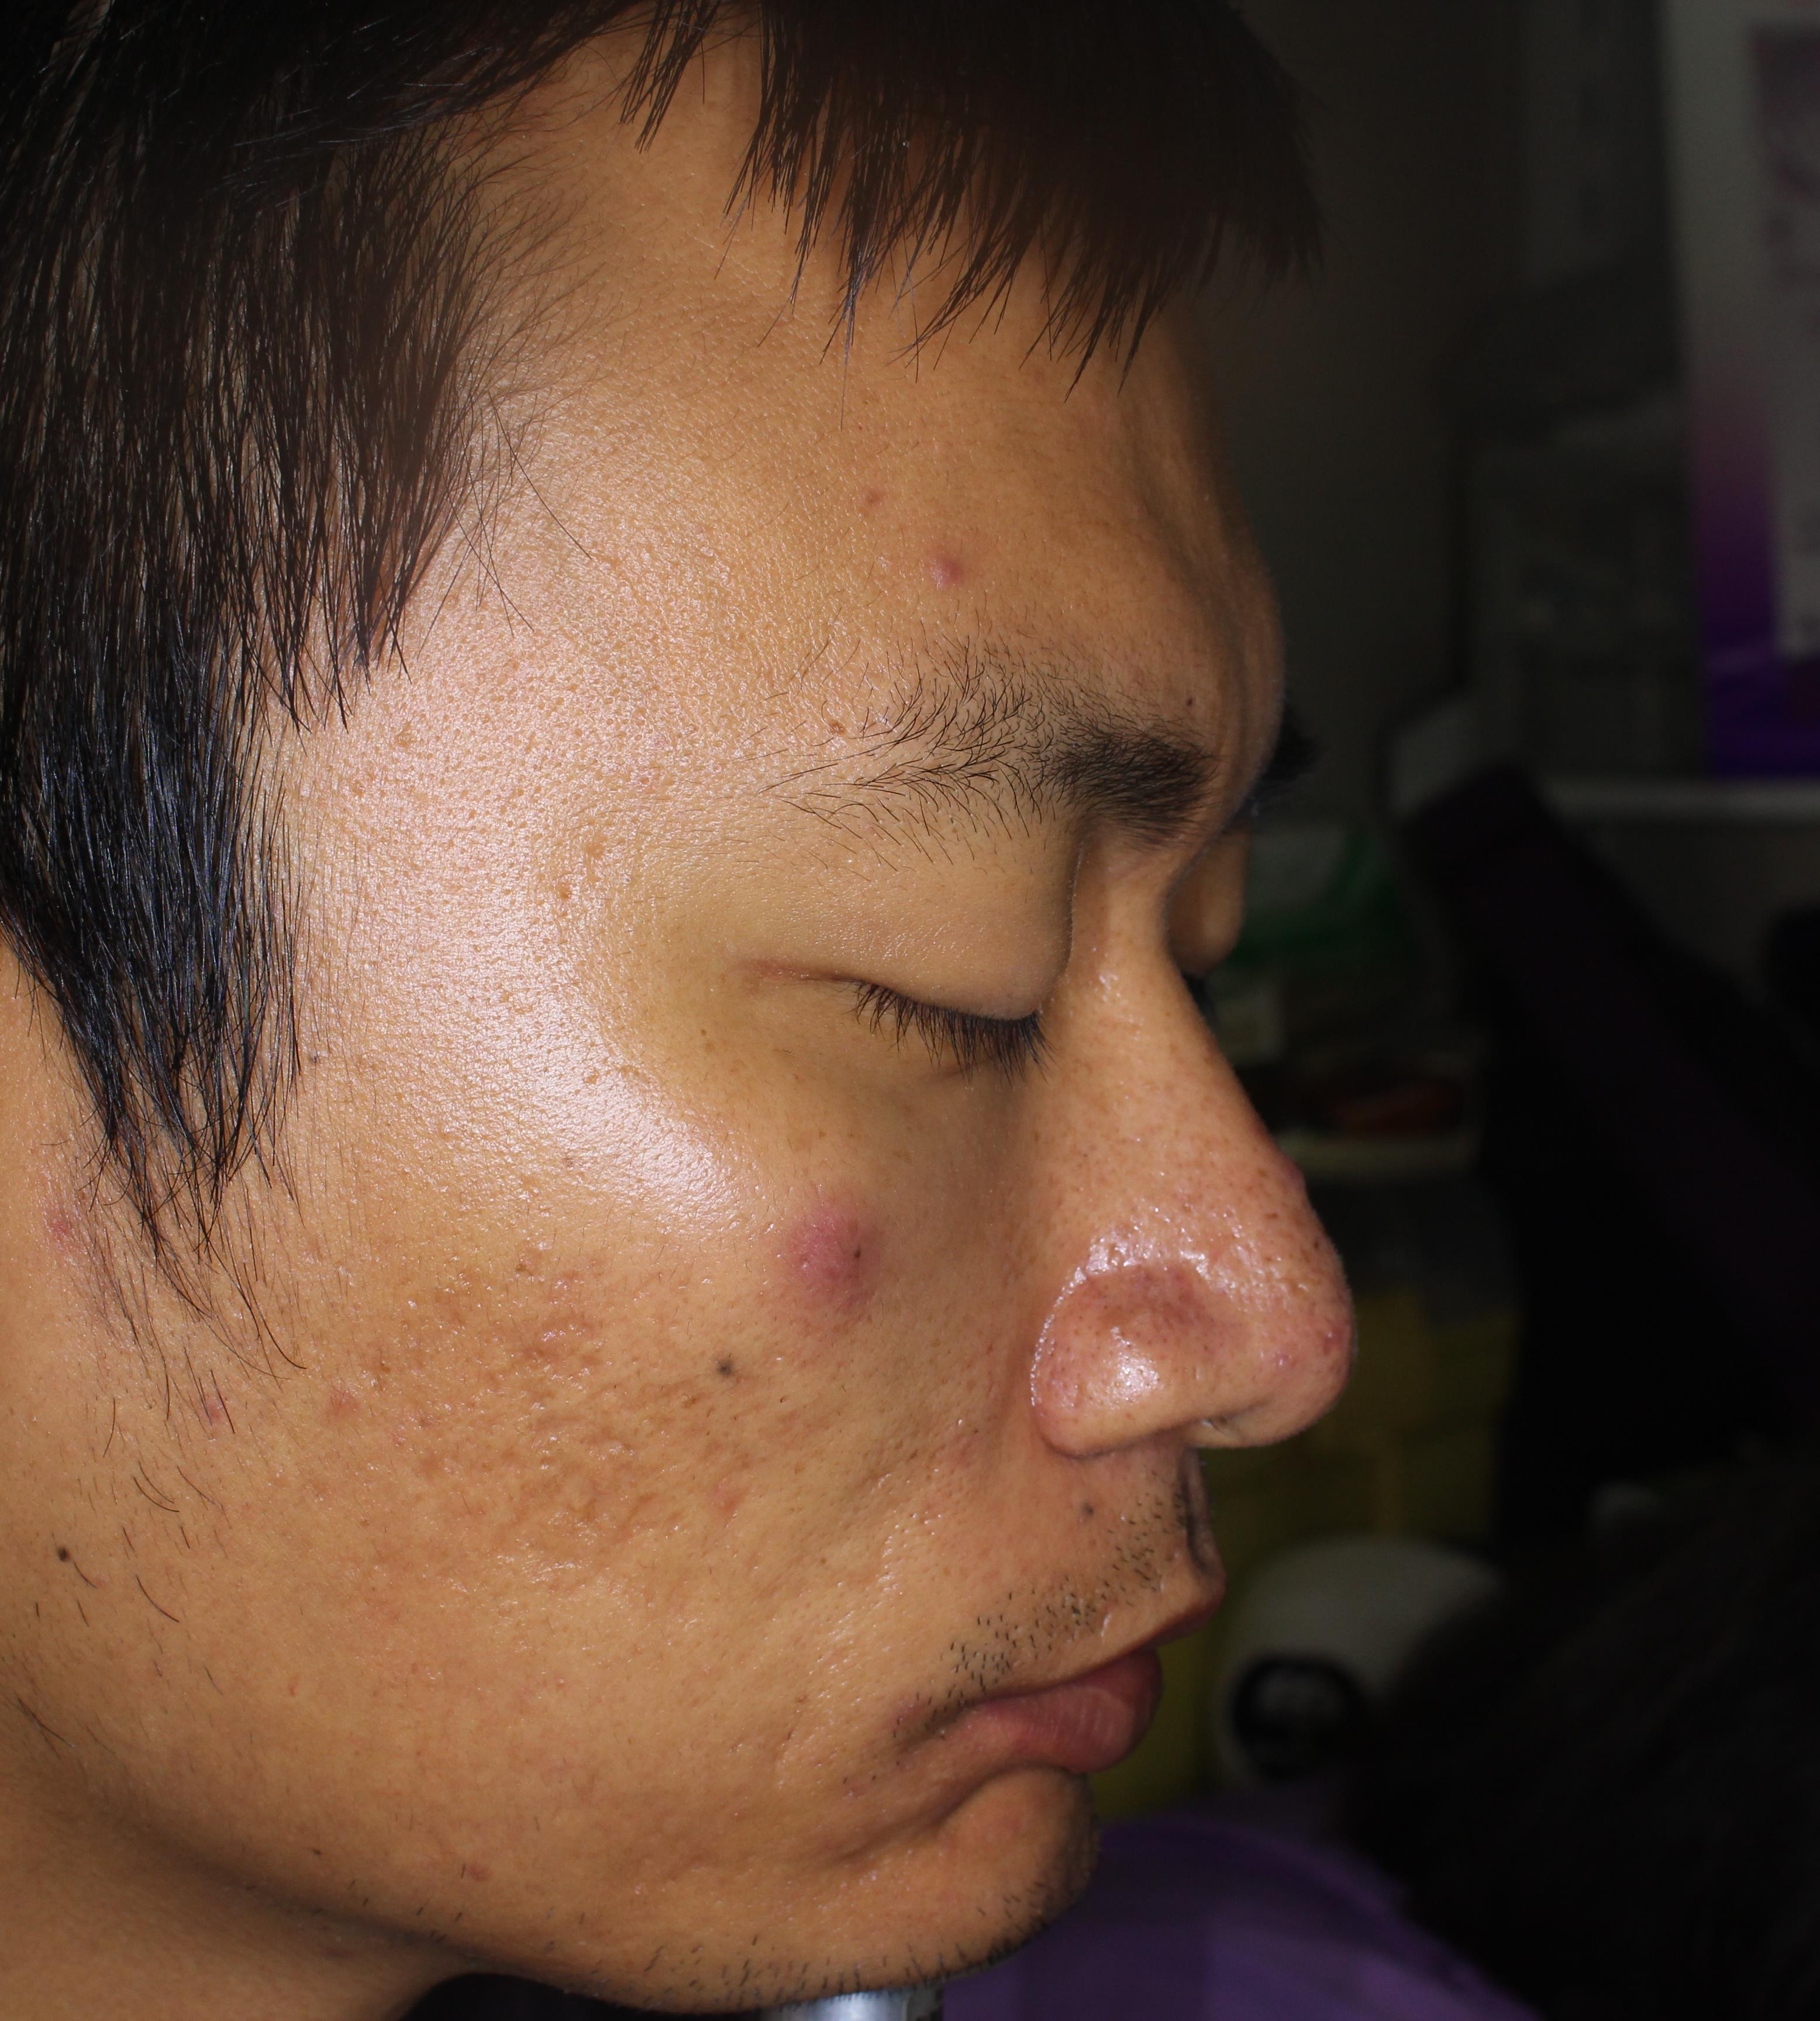fore: (780, 1182, 884, 1315)
